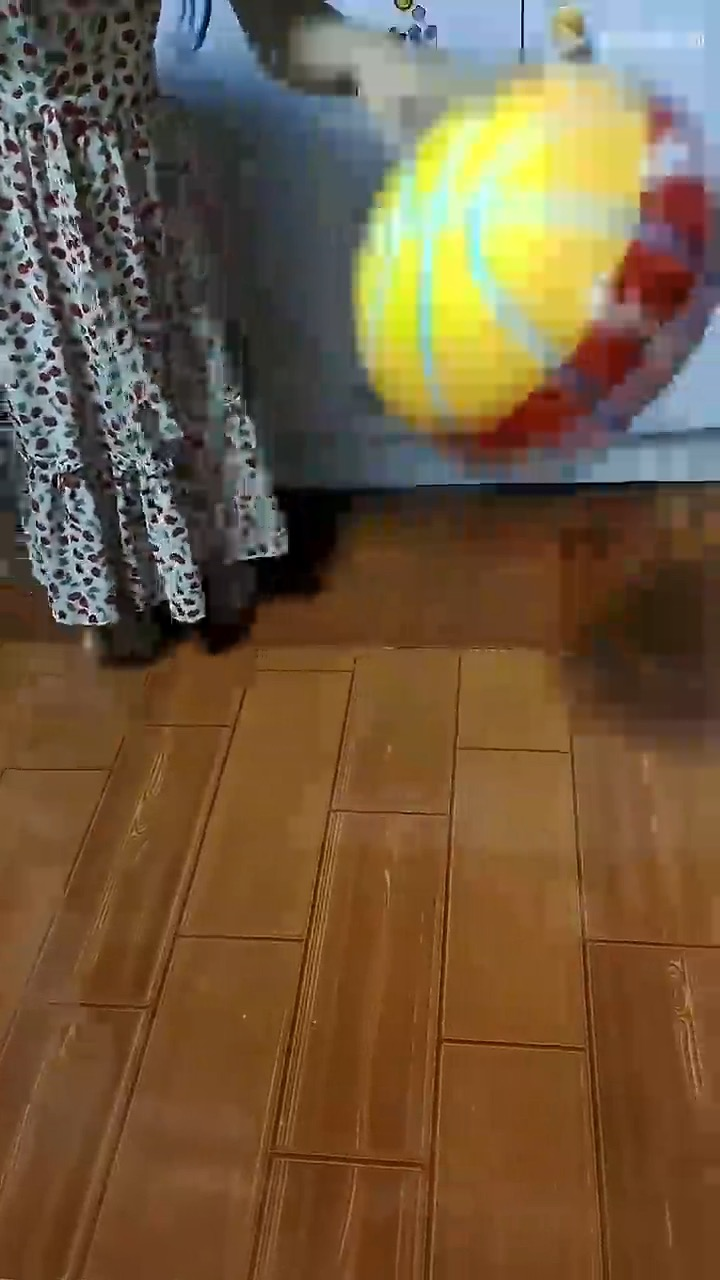ball: (345, 55, 720, 477)
